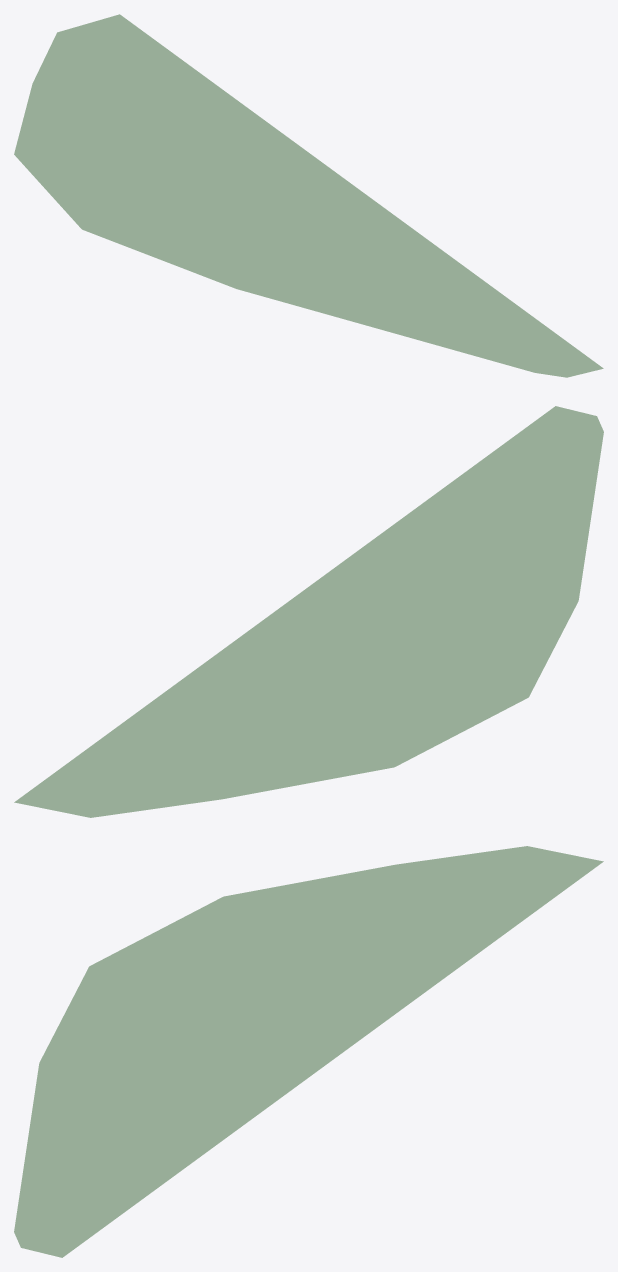
Rendered from 102_112_mid.glb.
3 renders of one model, top to bottom at view 1: azimuth 30°, elevation 25°; view 2: azimuth 150°, elevation 25°; view 3: azimuth 330°, elevation 25°, orthographic. The views are drawn at different scales.
Size of the model in its own units: 47.72 by 0 by 161.
